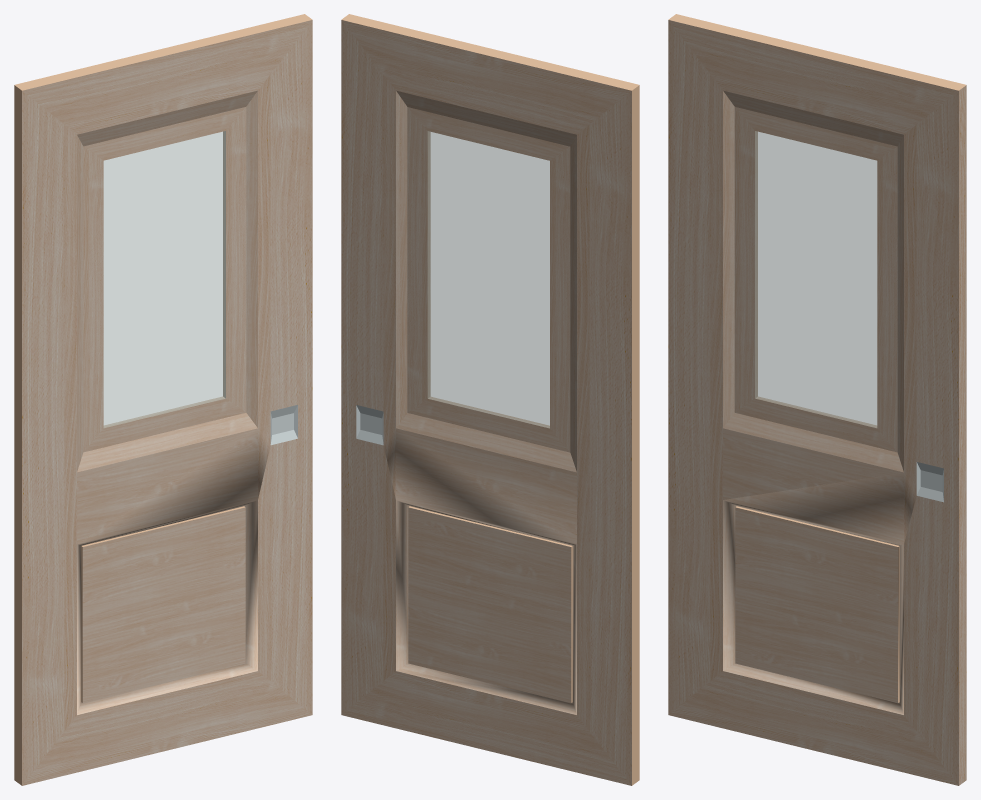
Rendered from porta-sliding-vetro-texture.glb.
The picture shows the model from 3 angles, left to right: view 1: azimuth 30°, elevation 25°; view 2: azimuth 150°, elevation 25°; view 3: azimuth 330°, elevation 25°; orthographic projection.
Parts seen in each view (by area): view 1: door, door-glass; view 2: door, door-glass; view 3: door, door-glass.
Boxes of the visible parts, bbox=[...] form: door: bbox=[14, 14, 312, 785]; door-glass: bbox=[103, 131, 225, 427]; door: bbox=[341, 14, 639, 785]; door-glass: bbox=[427, 131, 549, 428]; door: bbox=[668, 14, 966, 785]; door-glass: bbox=[755, 131, 877, 427].
Size of the model in its own units: 0.4293 by 0.9812 by 0.0204.
Materials: 4 (1 with a texture image).
